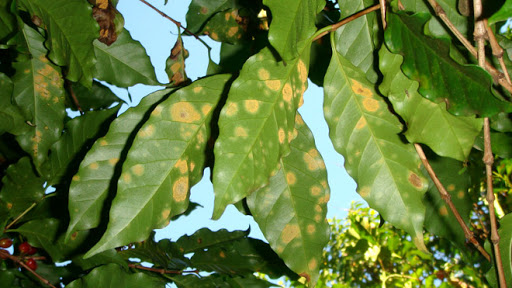roya: (151, 92, 332, 259), (331, 68, 446, 248)
